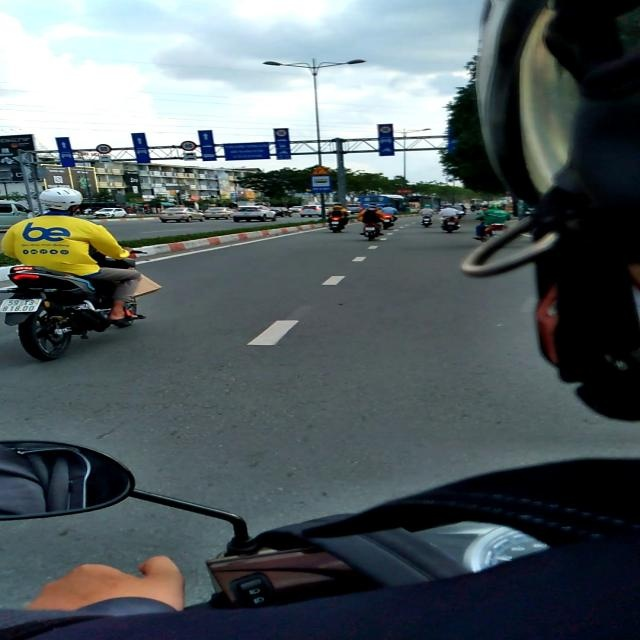bien_nguy_hiem: (311, 176, 331, 192), (310, 165, 330, 176), (180, 141, 197, 151), (96, 144, 112, 154), (274, 129, 288, 137), (379, 125, 391, 134)
